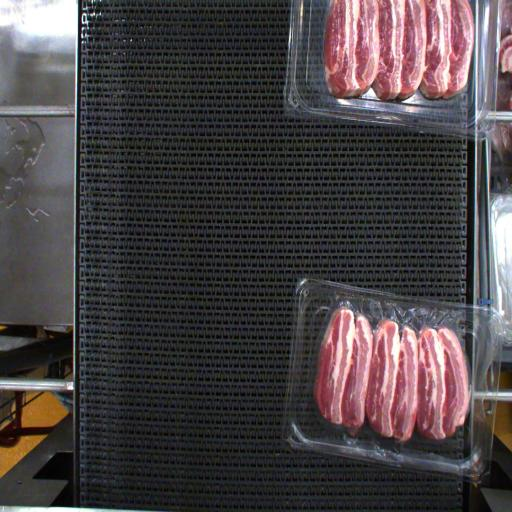unsealed: (300, 282, 484, 456)
